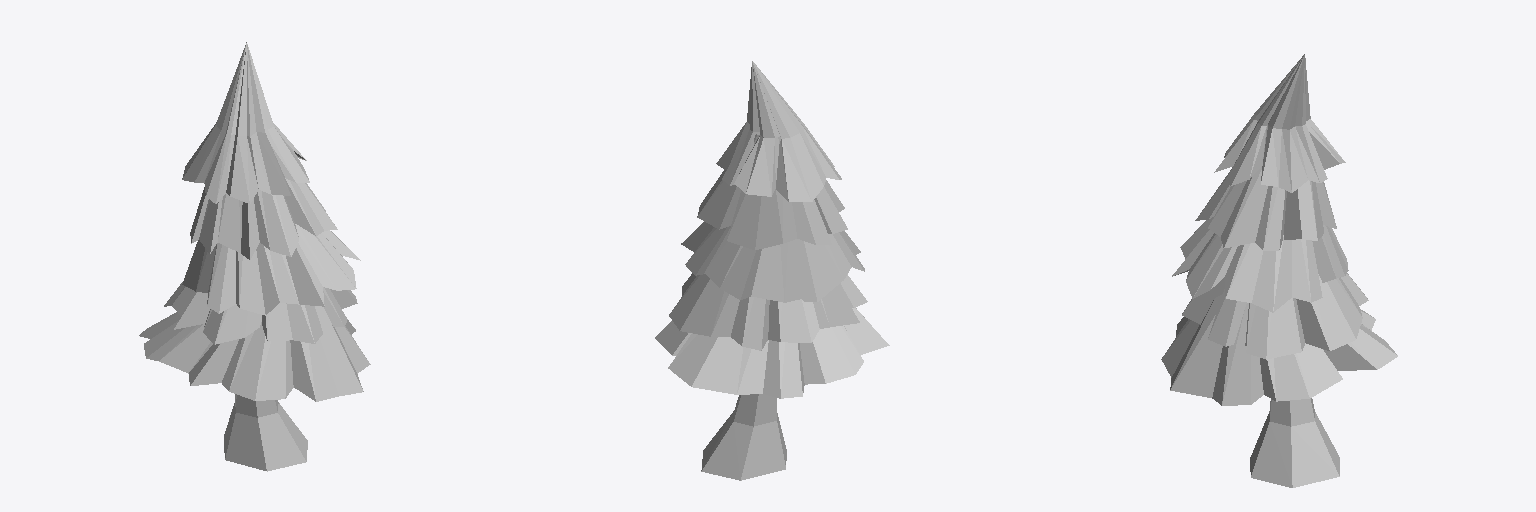
Rendered from Pino2.obj.
3 views of the same model, side by side, from view 1: azimuth 30°, elevation 25°; view 2: azimuth 150°, elevation 25°; view 3: azimuth 270°, elevation 25° (orthographic).
Parts seen in each view (by area): view 1: Pino.002; view 2: Pino.002; view 3: Pino.002.
Part boxes in pixels (x1,y1,x2,y2): Pino.002: (139, 42, 370, 471); Pino.002: (655, 61, 889, 480); Pino.002: (1161, 54, 1397, 487).
Size of the model in its own units: 13.13 by 25.96 by 13.68.